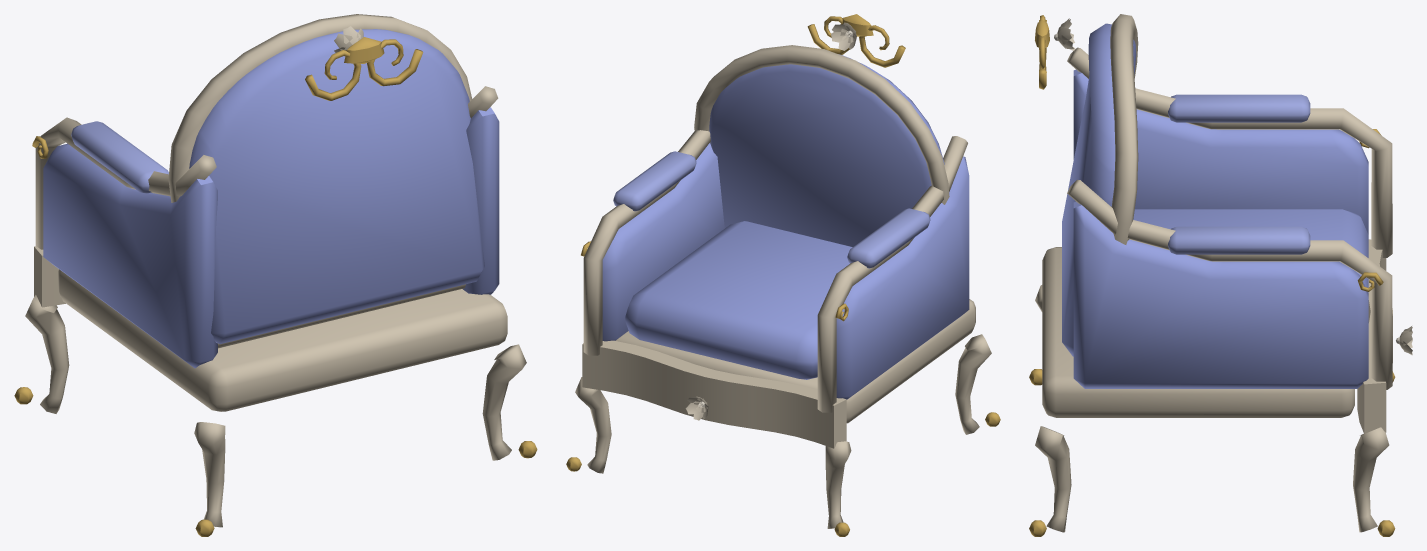
Rendered from chair_bergere.glb.
3 views of the same model, side by side, from view 1: azimuth 30°, elevation 25°; view 2: azimuth 150°, elevation 25°; view 3: azimuth 270°, elevation 25° (orthographic). The views are drawn at different scales.
Visible parts, largest first — view 1: chair_bergere; view 2: chair_bergere; view 3: chair_bergere.
Part boxes in pixels (bbox=[...]): chair_bergere: bbox=[14, 14, 537, 536]; chair_bergere: bbox=[566, 14, 1000, 536]; chair_bergere: bbox=[1029, 14, 1412, 536].
Size of what is drawn, in the model's own units: 0.8 by 1.05 by 0.82.
